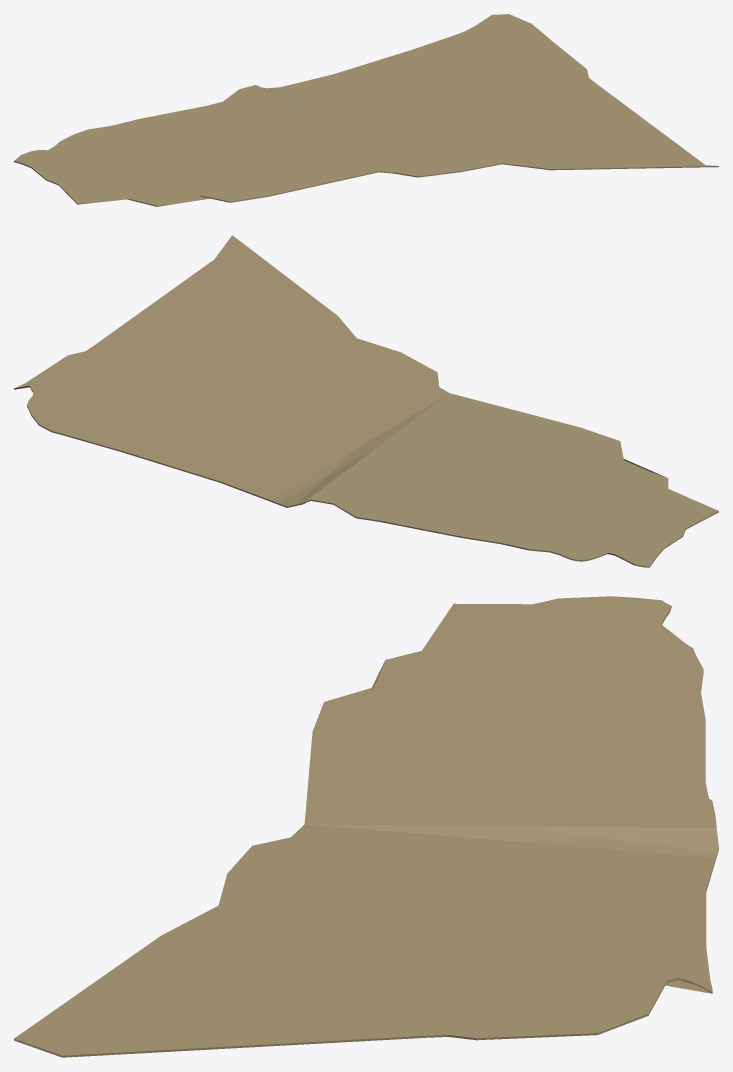
File: Brief001.fbx
3 renders of one model, top to bottom at view 1: azimuth 30°, elevation 25°; view 2: azimuth 150°, elevation 25°; view 3: azimuth 270°, elevation 25°, orthographic. The views are drawn at different scales.
Parts seen in each view (by area): view 1: Brief.001; view 2: Brief.001; view 3: Brief.001.
Boxes of the visible parts, x1,y1,x2,y2 form: Brief.001: (14,14,718,206); Brief.001: (14,235,718,567); Brief.001: (14,596,718,1057).
Size of the model in its own units: 201 by 12.24 by 135.
